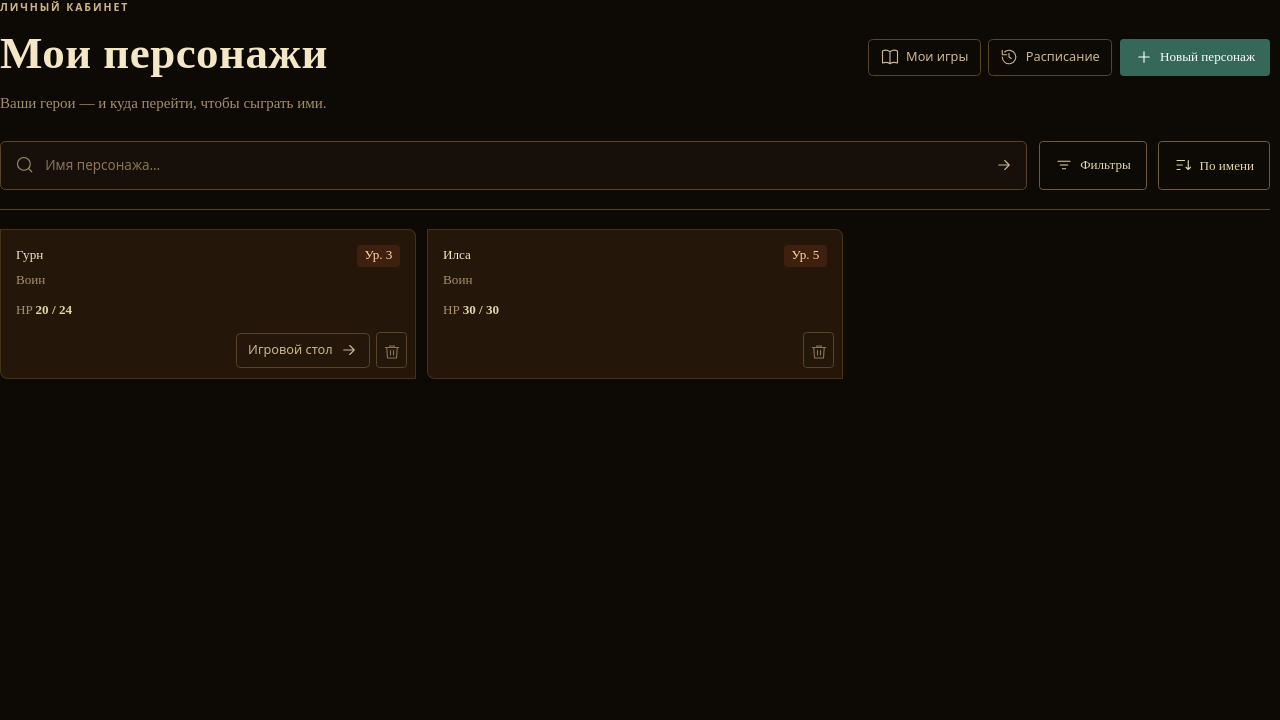
Test: my characters and games › filters by participation
Click the button "Фильтры" at (1093, 165), box x1=1039 y1=141 x2=1147 y2=190
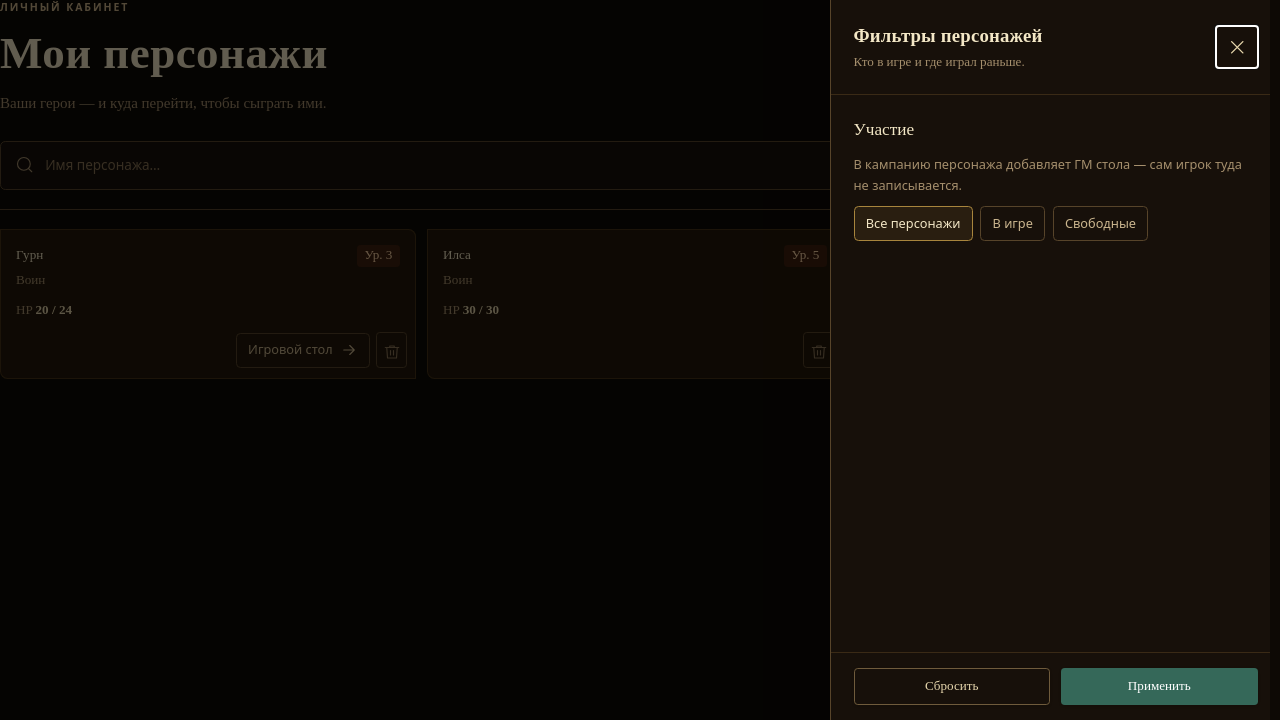
Click the button "Свободные" at (1100, 224), box x1=1053 y1=206 x2=1148 y2=241
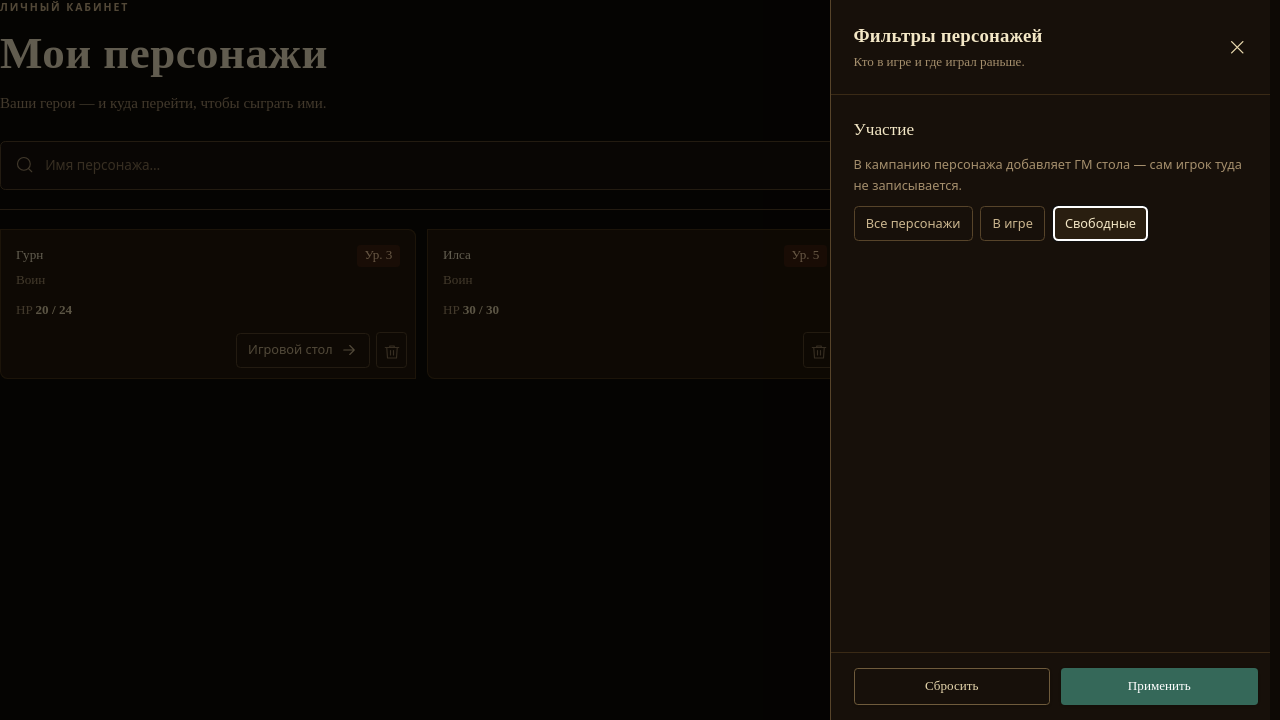
Click the button "Применить" at (1159, 686), box x1=1061 y1=668 x2=1258 y2=705
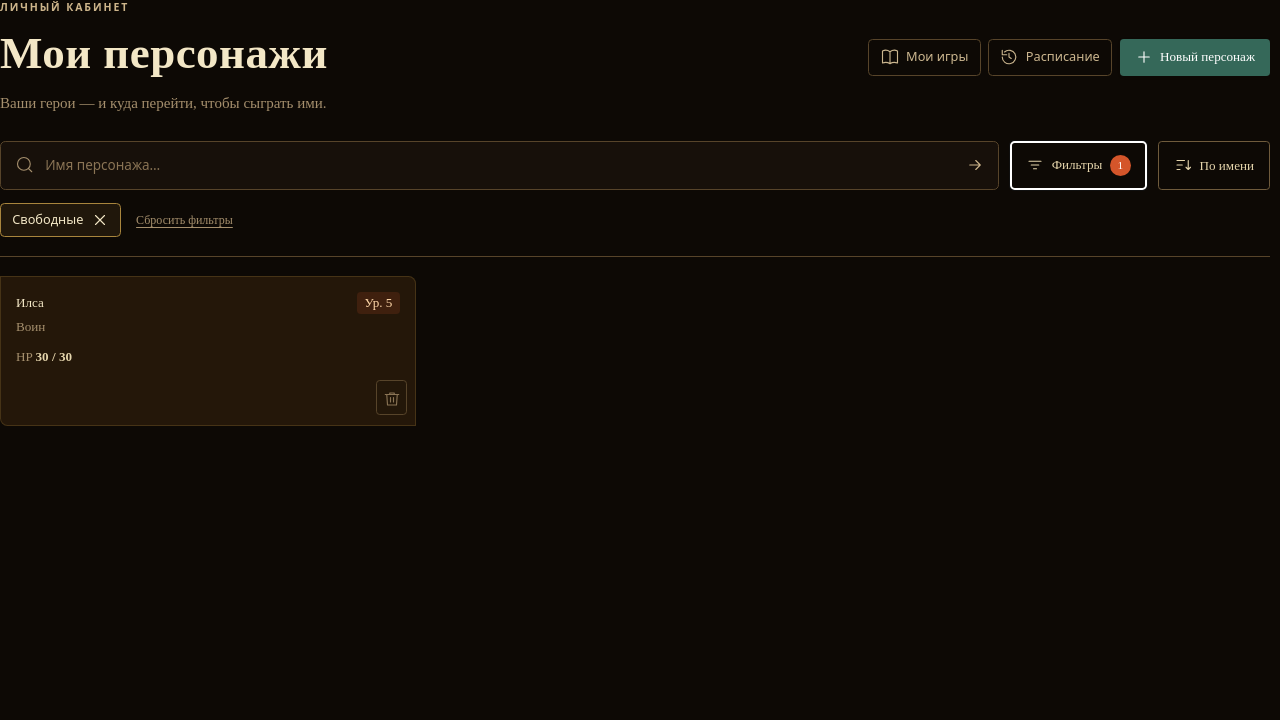
expect the link "Илса Ур. 5 Воин HP 30 / 30" is shown: met, box x1=16 y1=292 x2=400 y2=367
expect the link "Гурн" is gone: met
